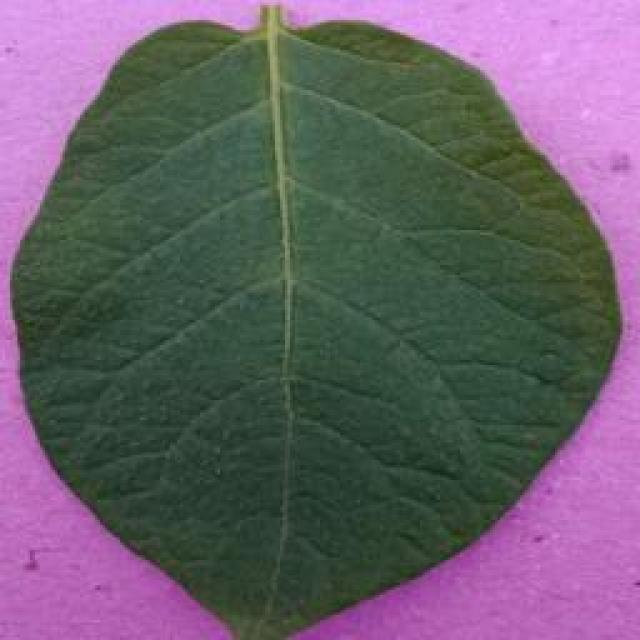Potato_Healthy: (11, 6, 614, 634)
